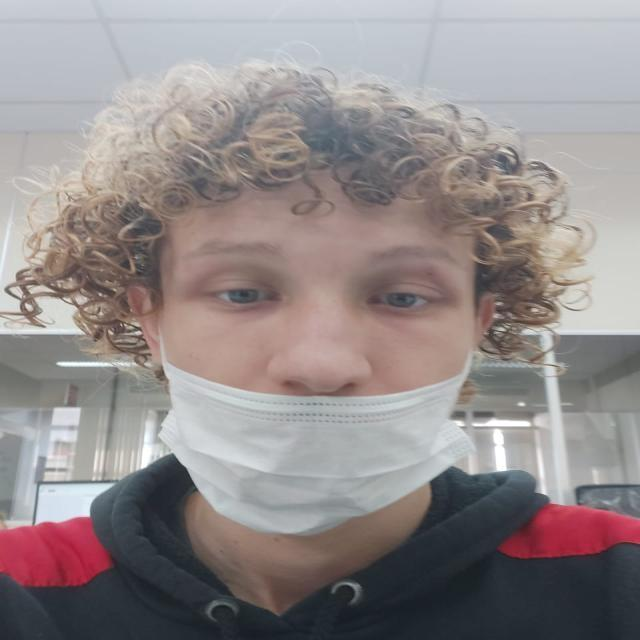hairnet: (173, 215, 452, 494)
